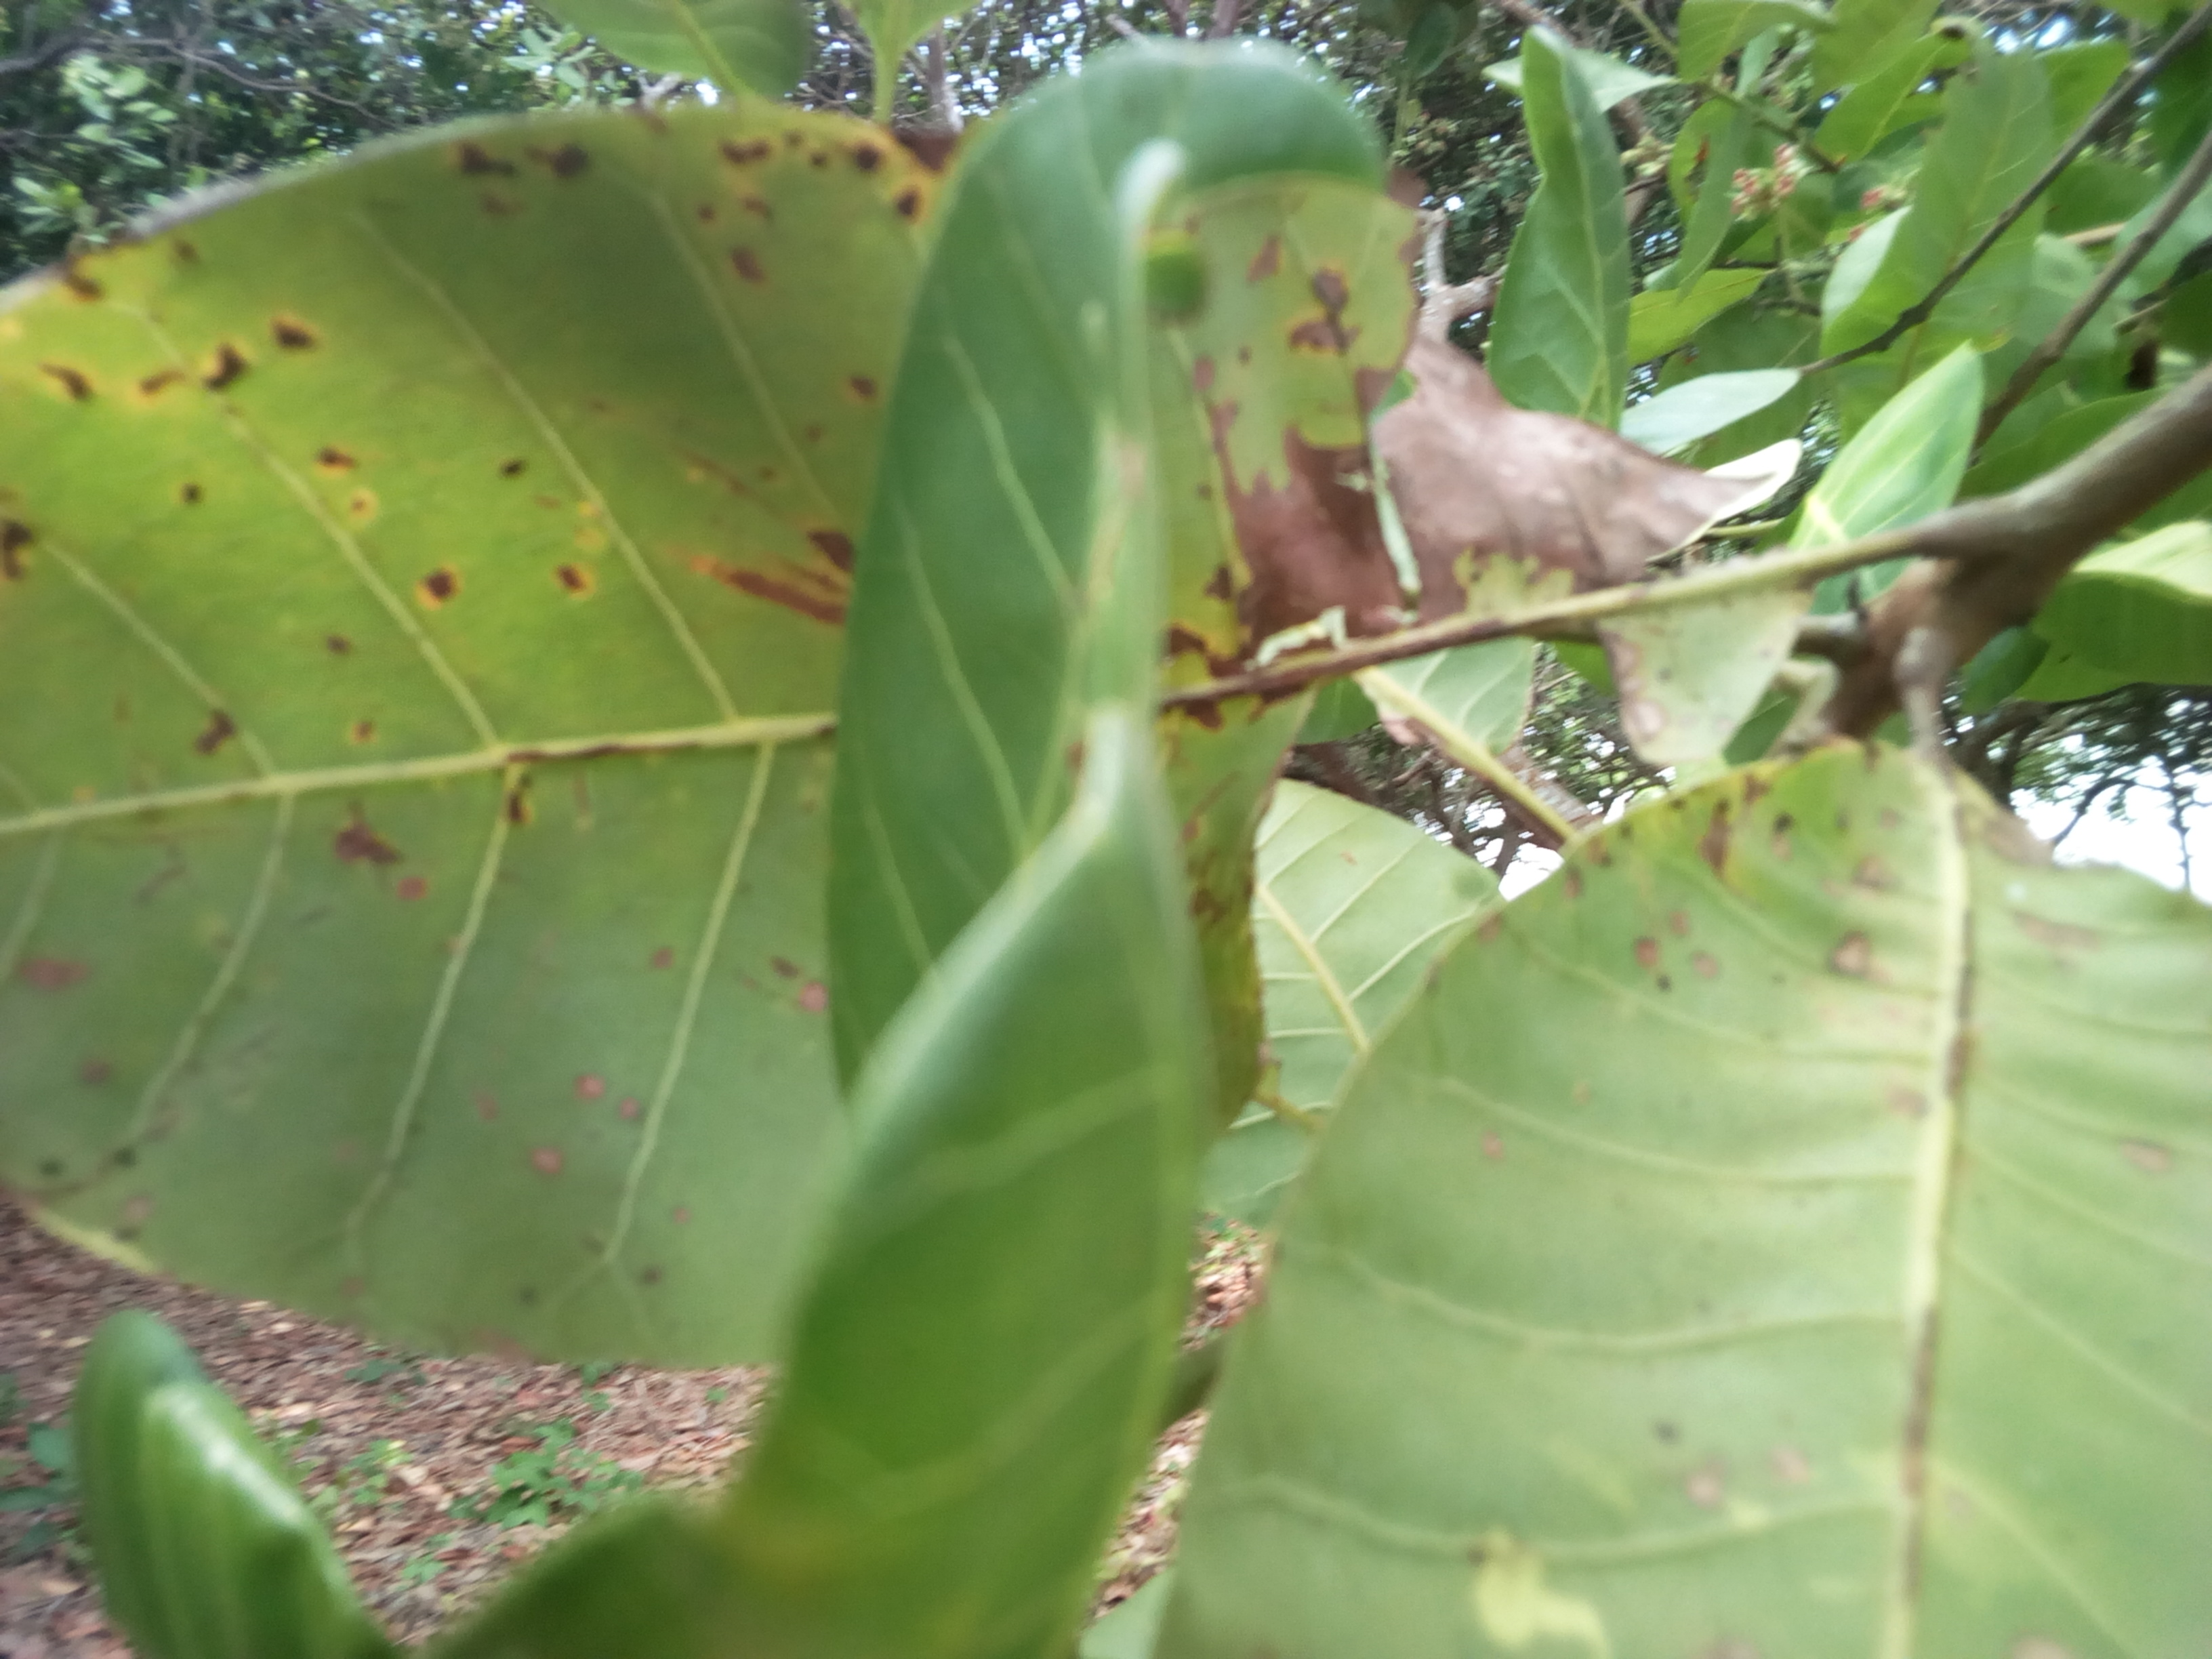Pestalotiose: (9, 134, 965, 1354), (1435, 798, 2203, 1659)
